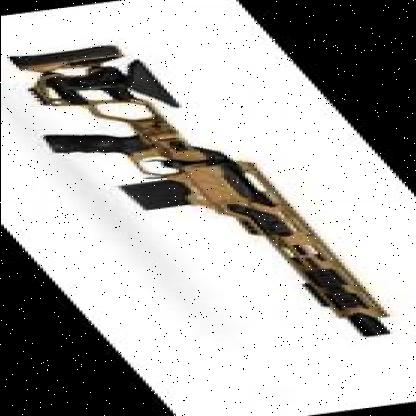rifle: (0, 34, 410, 356)
